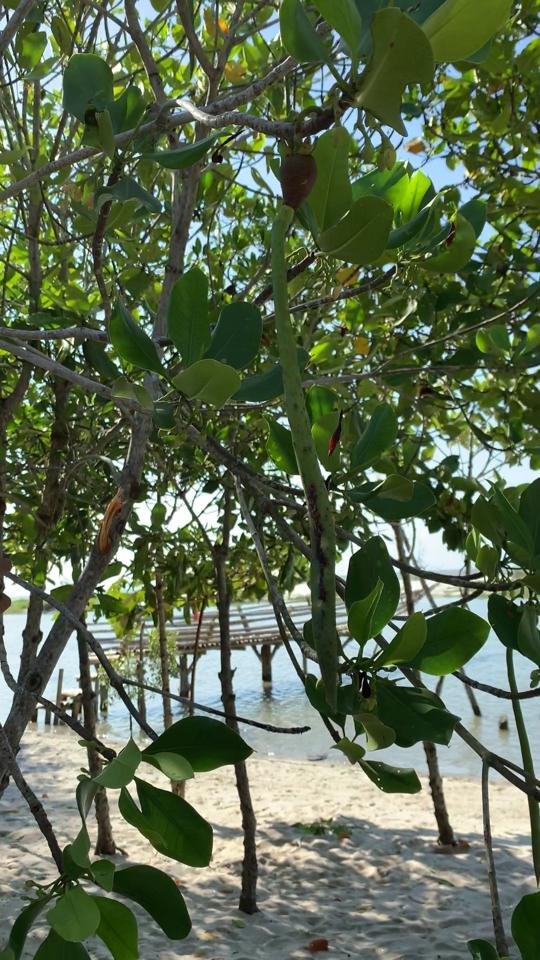setengah matang: (254, 126, 353, 727)
